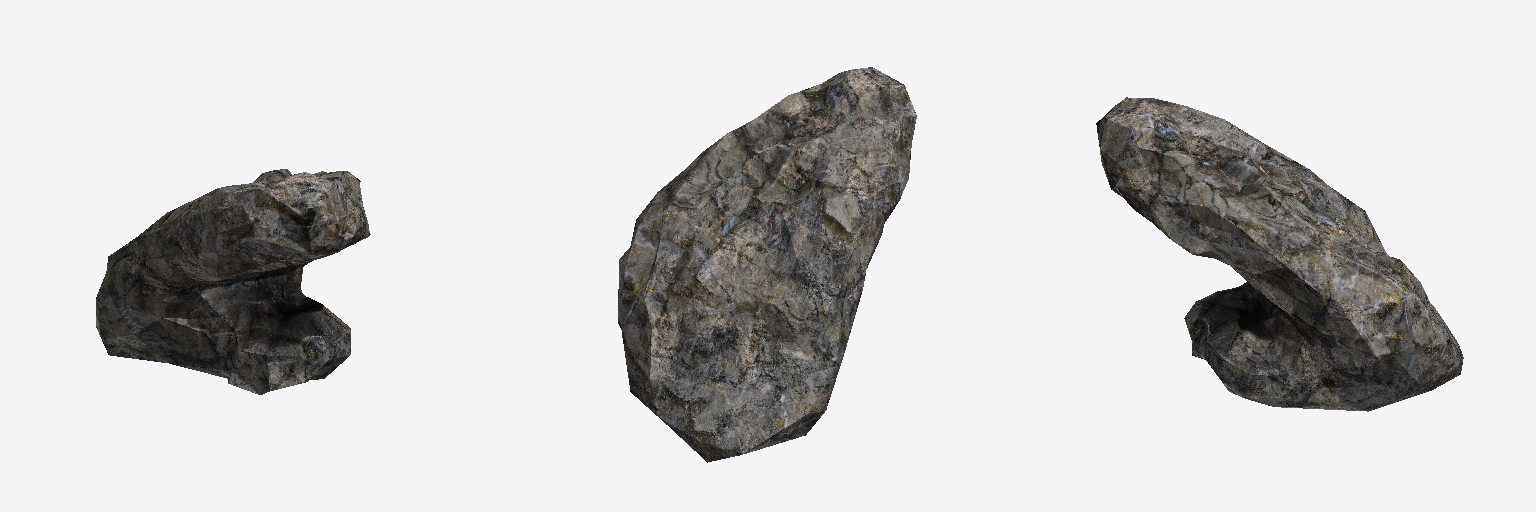
3 renders of one model, left to right at view 1: azimuth 30°, elevation 25°; view 2: azimuth 150°, elevation 25°; view 3: azimuth 270°, elevation 25°, orthographic.
Visible parts, largest first — view 1: Rock_03; view 2: Rock_03; view 3: Rock_03.
Boxes of the visible parts, <box> form: Rock_03: <box>96,169,370,394</box>; Rock_03: <box>618,67,916,462</box>; Rock_03: <box>1096,97,1463,411</box>.
Size of the model in its own units: 130 by 146 by 181.
1 materials, 1 textured.